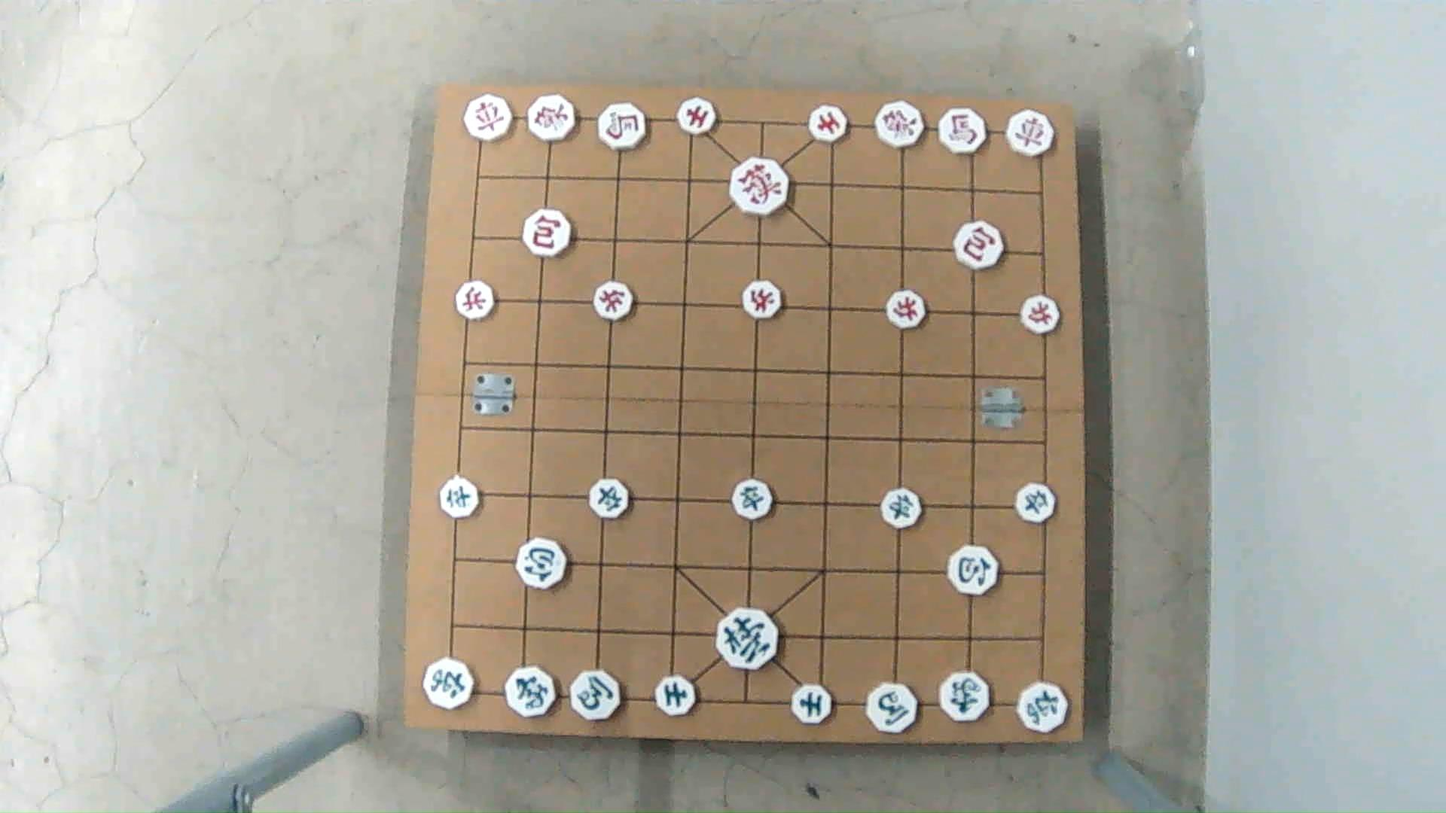cha_green: (421, 657, 471, 709), (1018, 683, 1073, 729)
cha_red: (463, 95, 516, 142), (1005, 112, 1057, 156)
jol_green: (880, 490, 925, 528), (730, 482, 775, 518), (438, 479, 483, 515), (1012, 486, 1058, 521), (587, 481, 633, 516)
jol_red: (883, 292, 930, 327), (453, 284, 499, 319), (1017, 297, 1060, 334), (593, 283, 637, 318), (740, 282, 783, 317)
ma_green: (567, 672, 624, 720), (863, 683, 918, 730)
ma_red: (596, 107, 649, 151), (936, 109, 989, 152)
po_green: (516, 542, 571, 589), (949, 548, 1002, 592)
po_red: (525, 212, 578, 256), (955, 224, 1008, 267)
sa_green: (652, 677, 697, 715), (791, 688, 834, 726)
sa_red: (673, 99, 717, 133), (807, 107, 849, 141)
sang_green: (938, 674, 993, 722), (508, 665, 557, 716)
sang_red: (524, 96, 578, 142), (870, 104, 920, 146)
wang_green: (717, 611, 781, 665)
wang_red: (730, 160, 790, 212)
